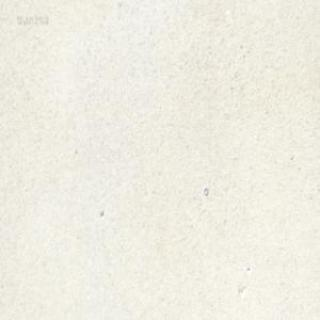Washertrack_idkeyframe: (202, 186, 208, 196)
